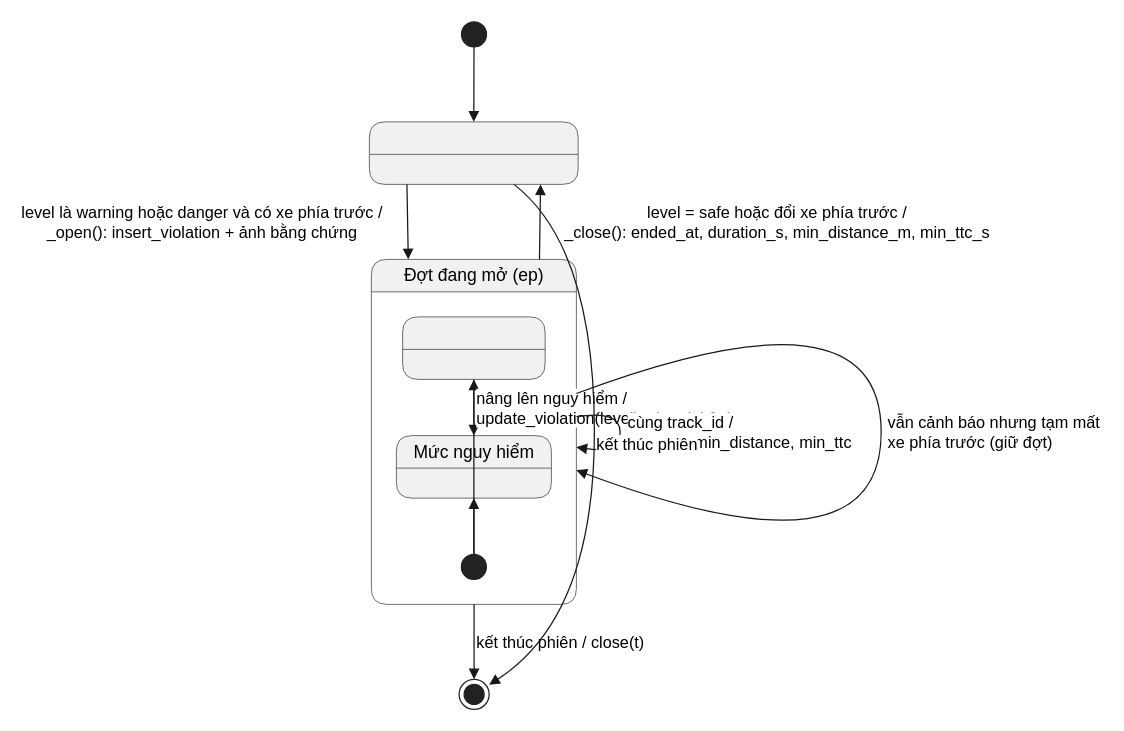
The diagram is 1124 pixels wide and 731 high, and some of its shapes have lost their labels. Here are the shapes that lost their labels. From the top down, the centre of each, then its label:
At (473,152): "Không có đợt vi phạm (ep = None)".
At (473,347): "Mức cảnh báo".
